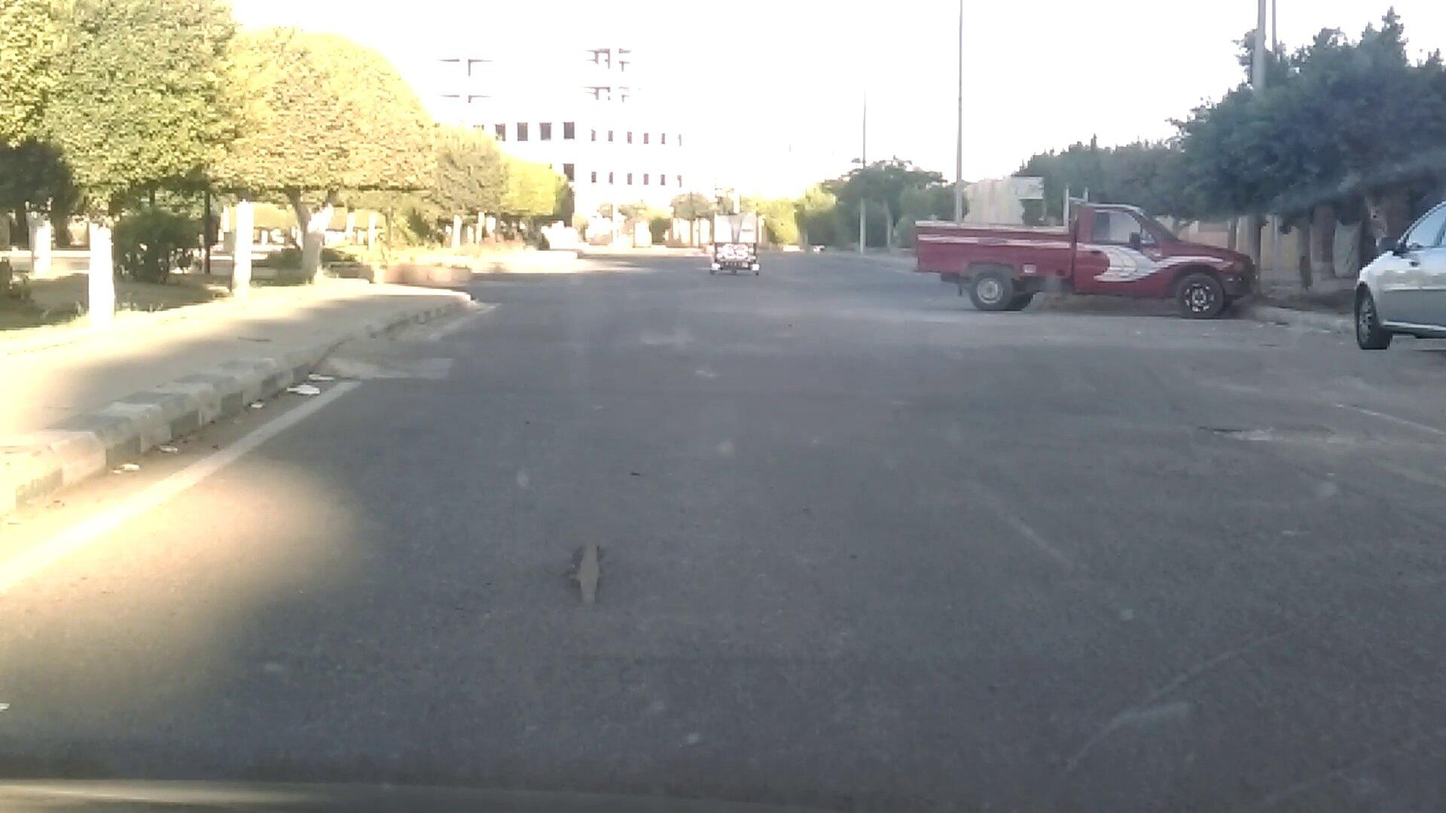Bump: (306, 330, 1445, 420)
